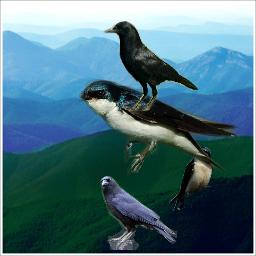Crow: (103, 21, 199, 111), (99, 176, 177, 250)
Swallow: (79, 79, 244, 176), (169, 147, 212, 212)
